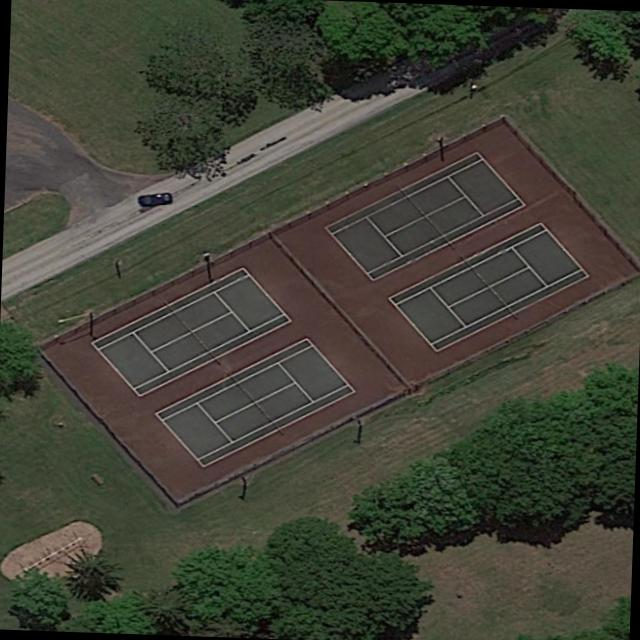small-vehicle: (136, 190, 173, 207)
